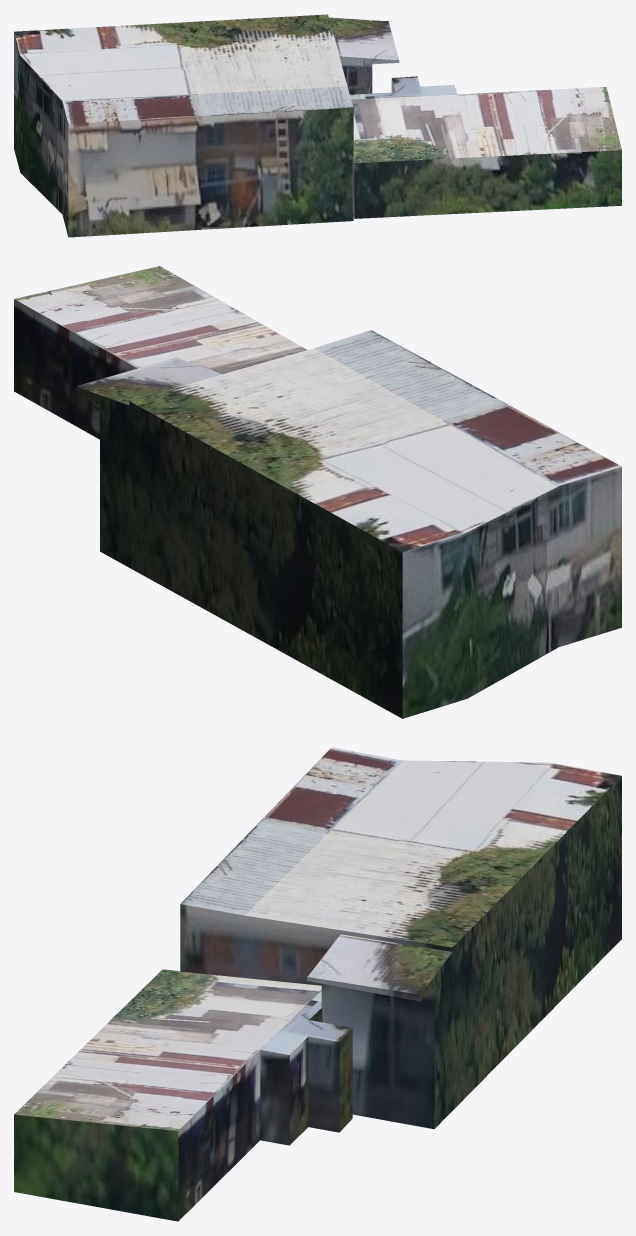
3 views of the same model, one above another, from view 1: azimuth 30°, elevation 25°; view 2: azimuth 150°, elevation 25°; view 3: azimuth 270°, elevation 25° (orthographic). The views are drawn at different scales.
Visible parts, largest first — view 1: B282064038401062A0; view 2: B282064038401062A0; view 3: B282064038401062A0.
Boxes of the visible parts, x1,y1,x2,y2 form: B282064038401062A0: (14, 14, 621, 237); B282064038401062A0: (14, 266, 621, 718); B282064038401062A0: (14, 747, 621, 1221).
Size of the model in its own units: 21.9 by 5.08 by 17.16.
Materials: 1 (1 with a texture image).
